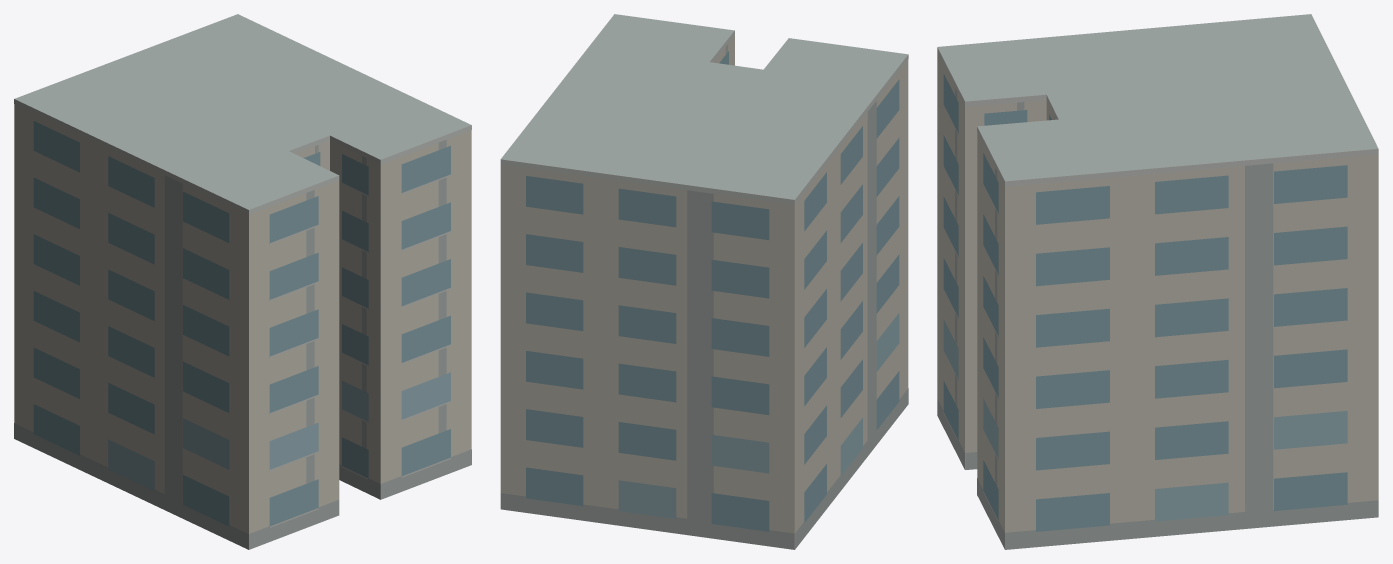
File: survey-upis-32698510.glb
3 views of the same model, side by side, from view 1: azimuth 30°, elevation 25°; view 2: azimuth 150°, elevation 25°; view 3: azimuth 270°, elevation 25° (orthographic). The views are drawn at different scales.
Visible parts, largest first — view 1: survey-upis-32698510.tmp; view 2: survey-upis-32698510.tmp; view 3: survey-upis-32698510.tmp.
Boxes of the visible parts, x1,y1,x2,y2 form: survey-upis-32698510.tmp: (14,14,471,549); survey-upis-32698510.tmp: (500,14,908,549); survey-upis-32698510.tmp: (937,14,1378,549).
Bounding box in the file's own units: 16.28 × 16.7 × 18.14.
